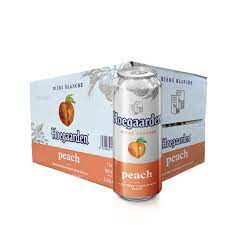can: (112, 70, 164, 203)
